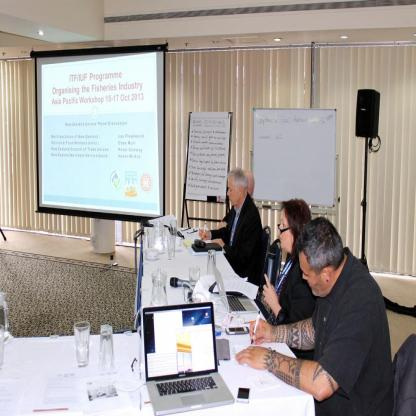board: (141, 299, 234, 416), (212, 260, 257, 314)
